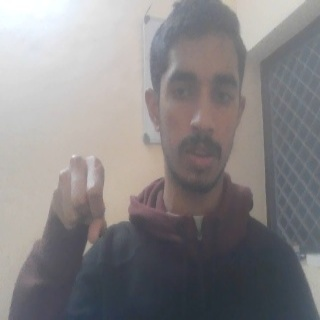Face: (140, 4, 247, 195)
Yes: (51, 155, 108, 247)
